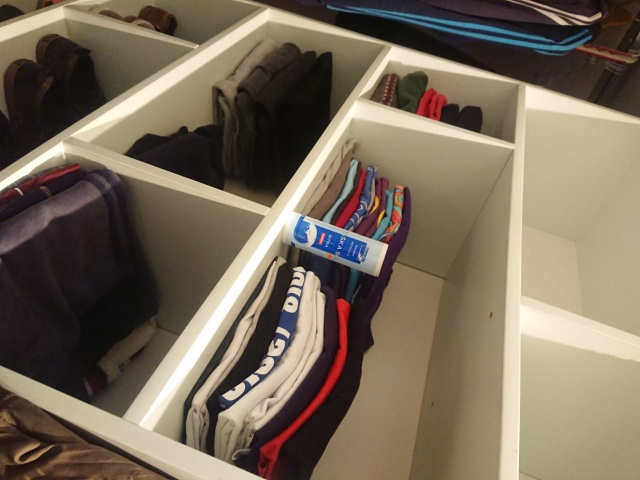Solana Pag Fine Sea Salt 250g: (279, 208, 391, 280)
